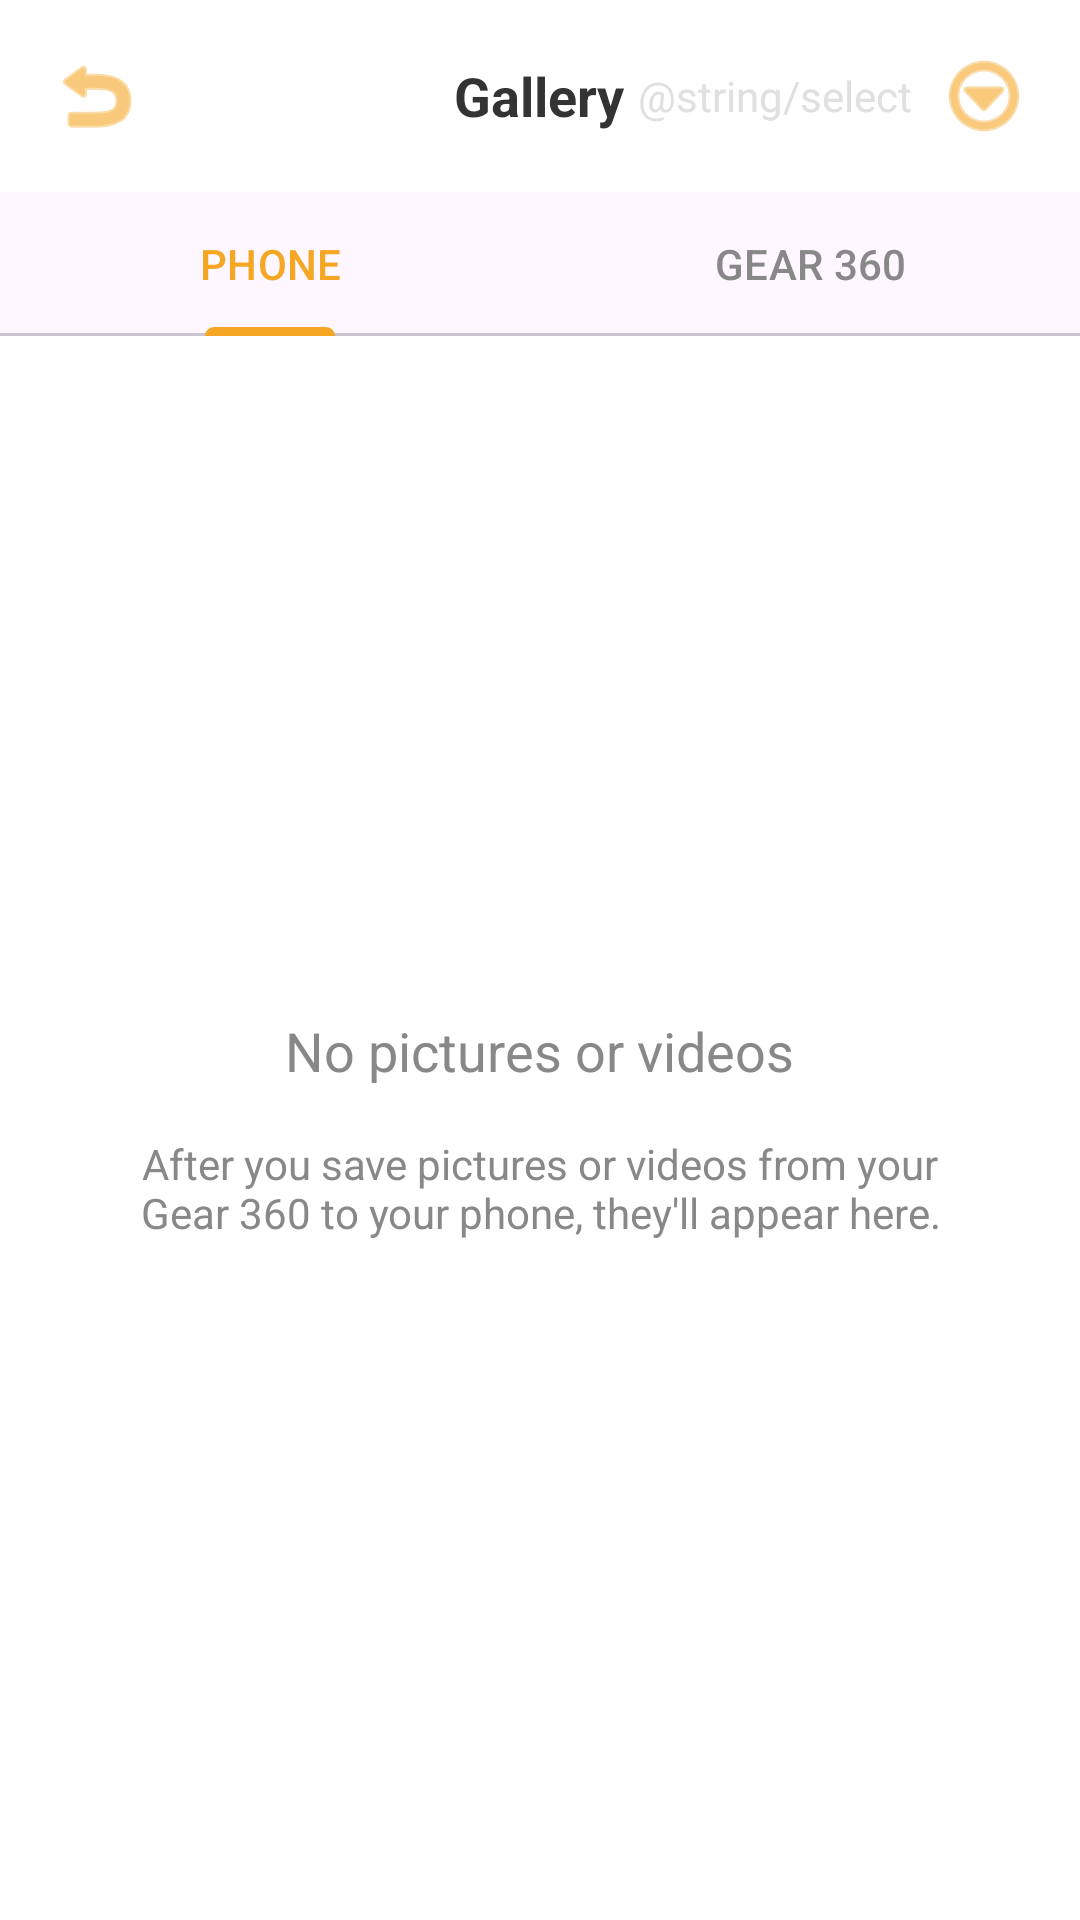

Where to tap for icons on this 1080×1920 app screen, as point (x, y):
more: point (984, 96)
revert: point (97, 96)
